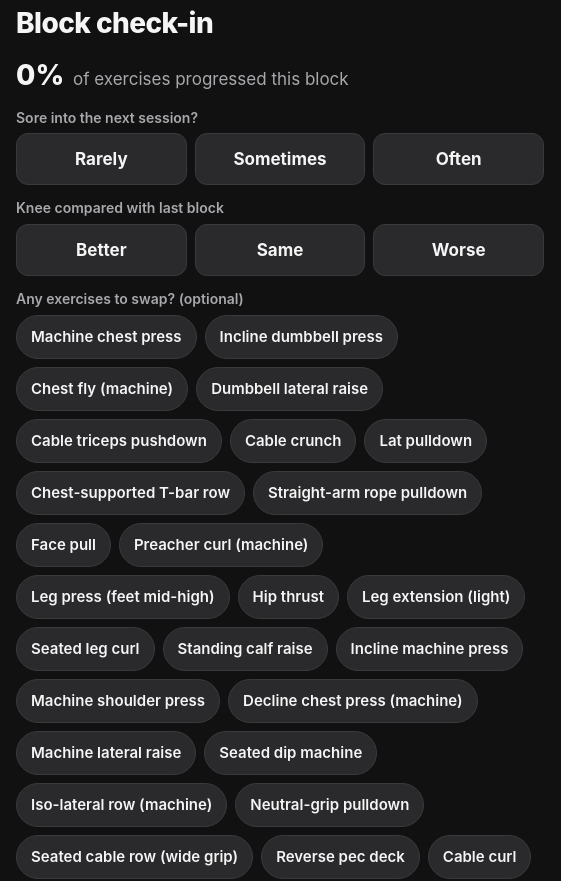
Test: CheckIn › says there are no changes when nothing changes
The width and height of the screenshot is (561, 881).
expect the text "of exercises progressed this block" is shown: met, box [68,69,349,89]
What coordinates should you click on to do the following:
click the radio button labelled "Sometimes"
I would click on:
 (280, 160)
Its box is [195,134,365,186].
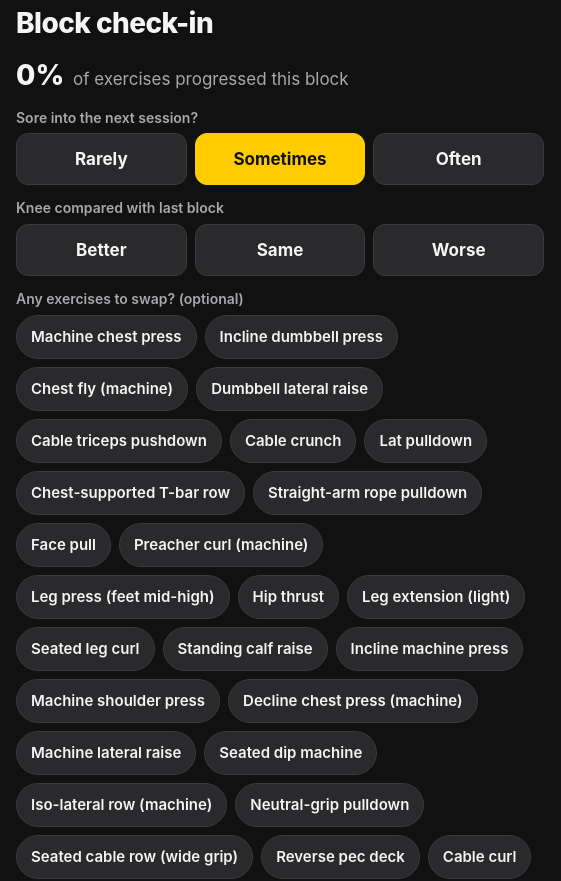
What coordinates should you click on to do the following:
click the radio button labelled "Same"
I would click on:
 (280, 250)
Its box is [195,224,365,276].
(page scrolled)
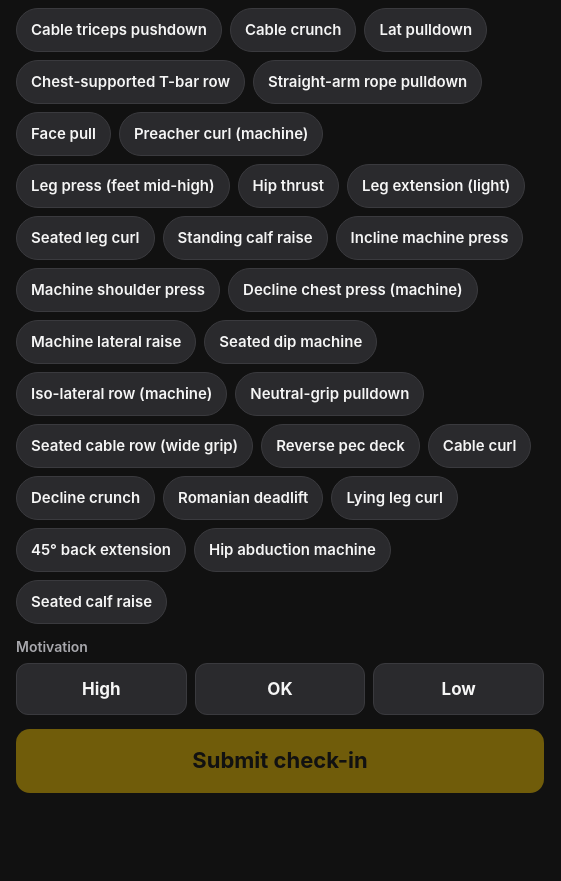
What coordinates should you click on to do the following:
click the radio button labelled "High"
I would click on:
 (101, 689)
Its box is [16,663,187,715].
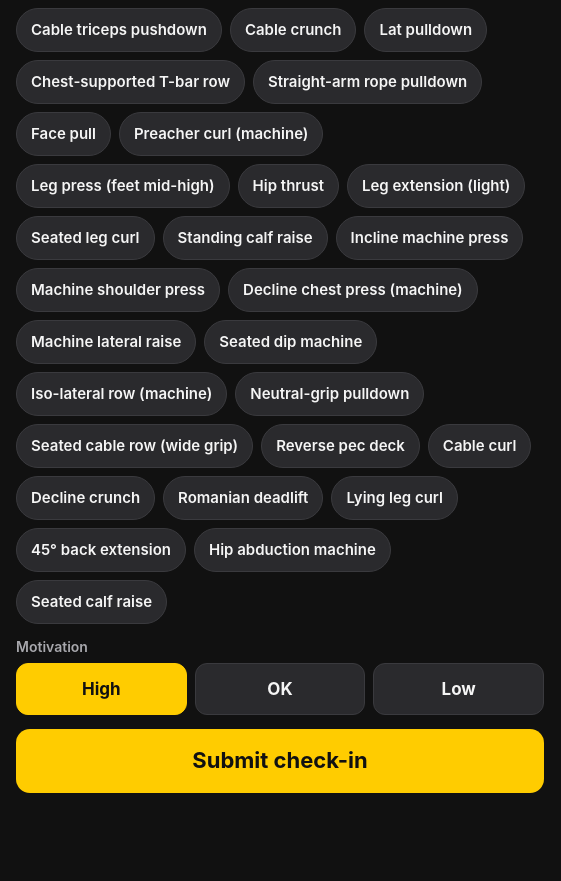
What coordinates should you click on to do the following:
click the button "Submit check-in"
I would click on:
 (280, 761)
Its box is [16,729,544,793].
(page scrolled)
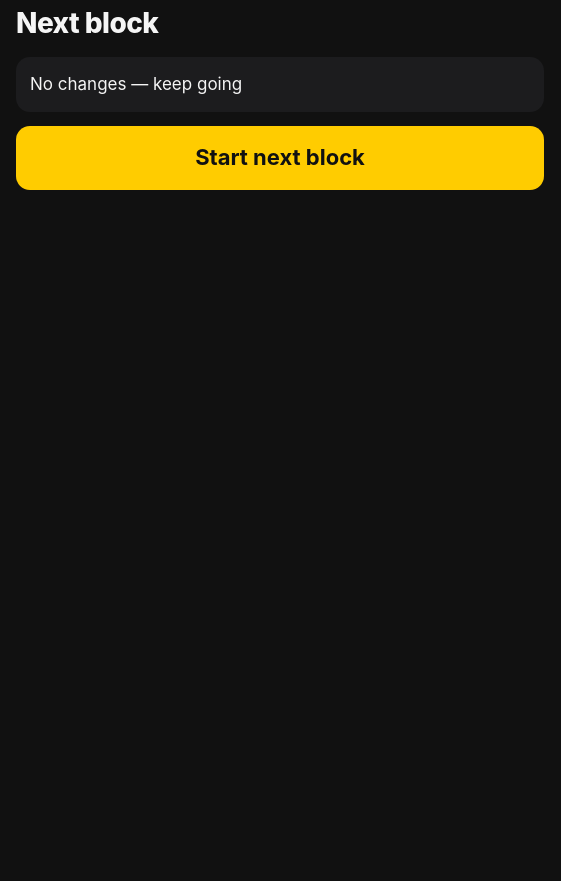
expect the text "No changes — keep going" is shown: met, box [16,57,544,112]
